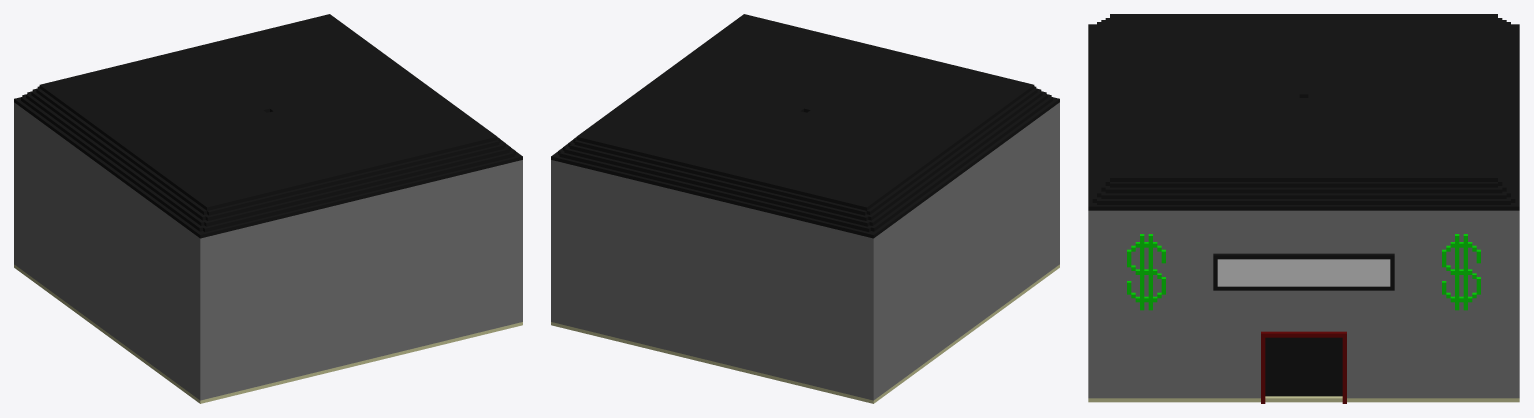
Rendered from Bank filled.obj.
The picture shows the model from 3 angles, left to right: view 1: azimuth 30°, elevation 25°; view 2: azimuth 150°, elevation 25°; view 3: azimuth 270°, elevation 25°; orthographic projection. The views are drawn at different scales.
Visible parts, largest first — view 1: Bank filled; view 2: Bank filled; view 3: Bank filled.
Part boxes in pixels (x1,y1,x2,y2): Bank filled: (14,14,522,403); Bank filled: (551,14,1059,403); Bank filled: (1088,14,1519,403).
Bounding box in the file's own units: 101 × 55 × 100.
Materials: 1 (1 with a texture image).
